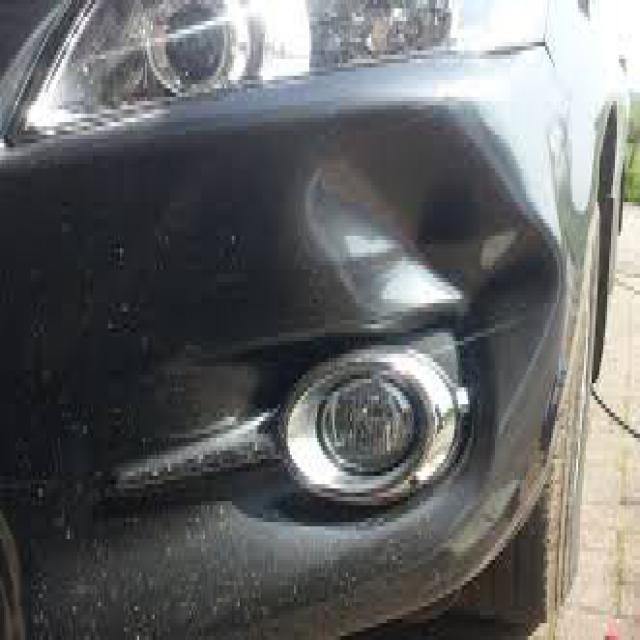front-bumper-dent: (277, 93, 569, 417)
